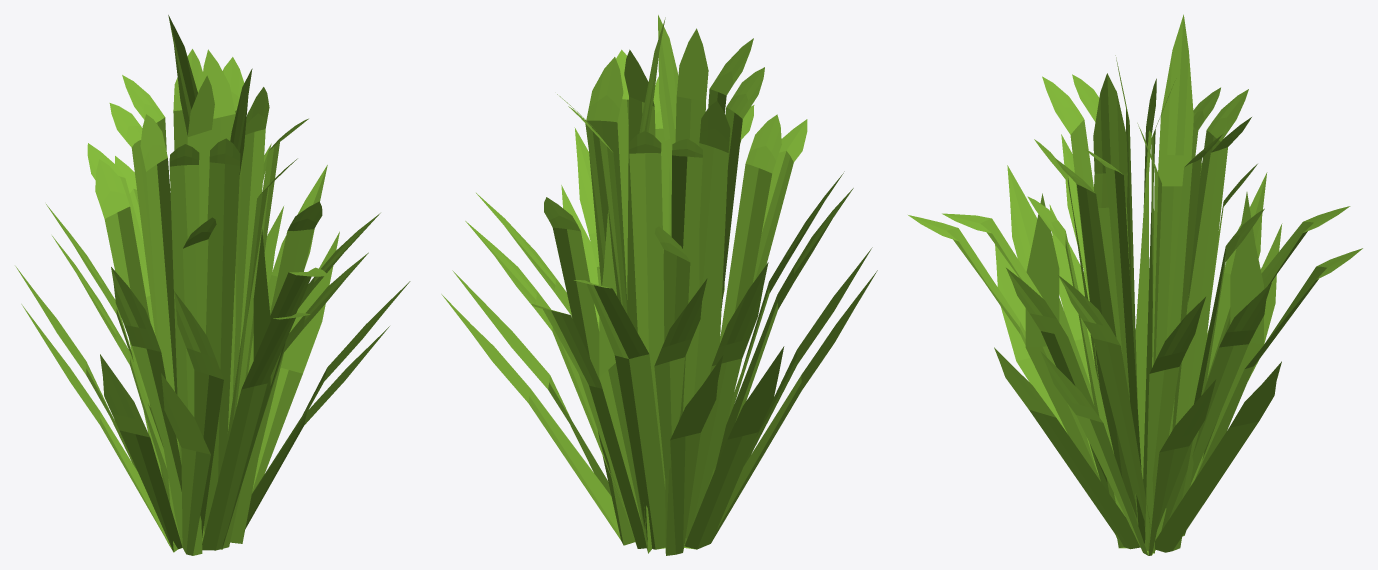
The model's file is tall grass.fbx.
3 views of the same model, side by side, from view 1: azimuth 30°, elevation 25°; view 2: azimuth 150°, elevation 25°; view 3: azimuth 270°, elevation 25° (orthographic). The views are drawn at different scales.
Visible parts, largest first — view 1: Plane.042; view 2: Plane.042; view 3: Plane.042.
Part boxes in pixels (left/top/right/bottom): Plane.042: left=15, top=15, right=410, bottom=555; Plane.042: left=441, top=15, right=877, bottom=555; Plane.042: left=908, top=14, right=1362, bottom=555.
Bounding box in the file's own units: 553 × 842 × 677.
